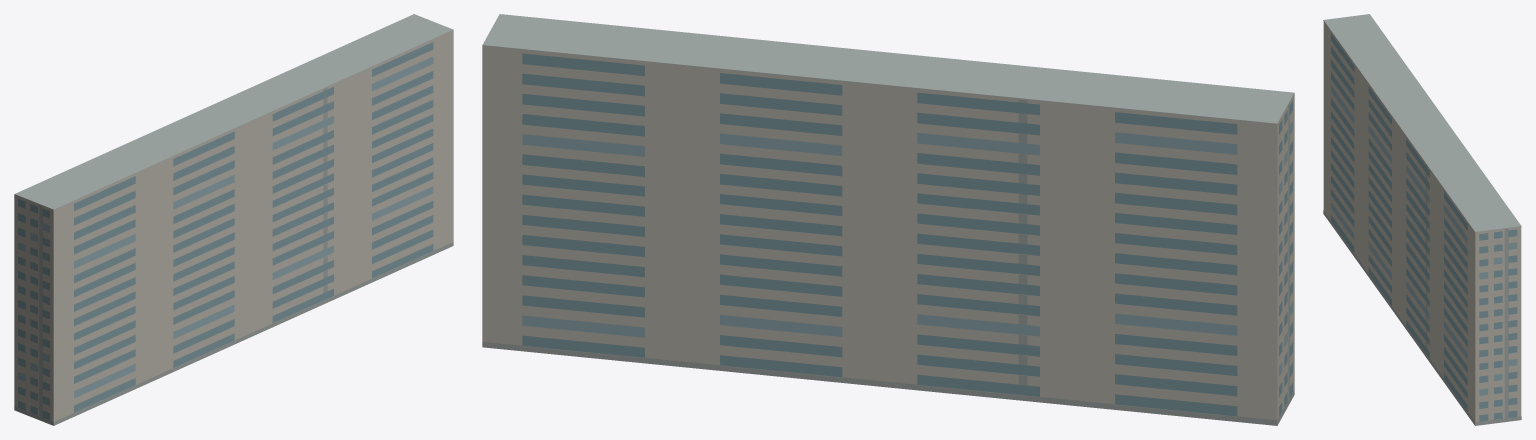
The model's file is residential-fcea8483-839d-41c3-becf-6d2a4e72893f.glb.
The picture shows the model from 3 angles, left to right: view 1: azimuth 30°, elevation 25°; view 2: azimuth 150°, elevation 25°; view 3: azimuth 270°, elevation 25°; orthographic projection. The views are drawn at different scales.
Visible parts, largest first — view 1: residential-fcea8483-839d-41c3-becf-6d2a4e72893f.tmp; view 2: residential-fcea8483-839d-41c3-becf-6d2a4e72893f.tmp; view 3: residential-fcea8483-839d-41c3-becf-6d2a4e72893f.tmp.
Boxes of the visible parts, <box> form: residential-fcea8483-839d-41c3-becf-6d2a4e72893f.tmp: <box>14,14,453,425</box>; residential-fcea8483-839d-41c3-becf-6d2a4e72893f.tmp: <box>482,14,1294,425</box>; residential-fcea8483-839d-41c3-becf-6d2a4e72893f.tmp: <box>1323,14,1521,425</box>.
Size of the model in its own units: 110 by 45.75 by 42.31.
